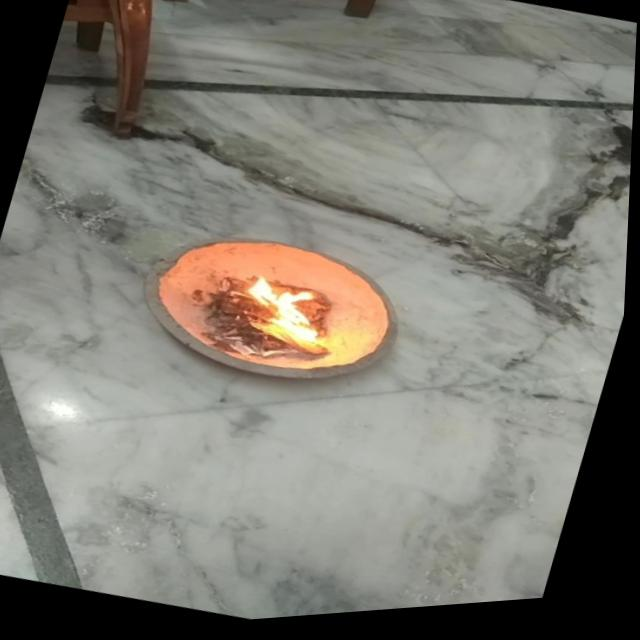fire: (233, 269, 351, 365)
